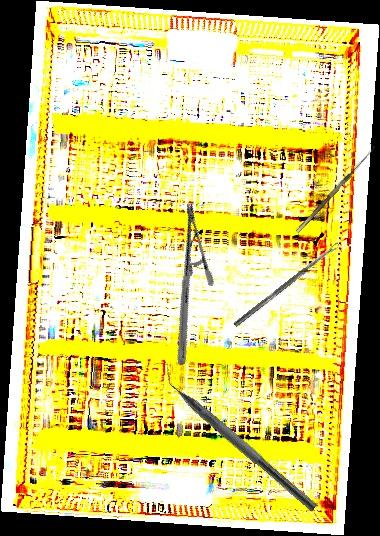Chopper: (153, 361, 327, 513)
Hook Surgical: (290, 142, 378, 234)
Needle Holder: (116, 201, 256, 367)
Surgical Spoon: (233, 242, 341, 328)
